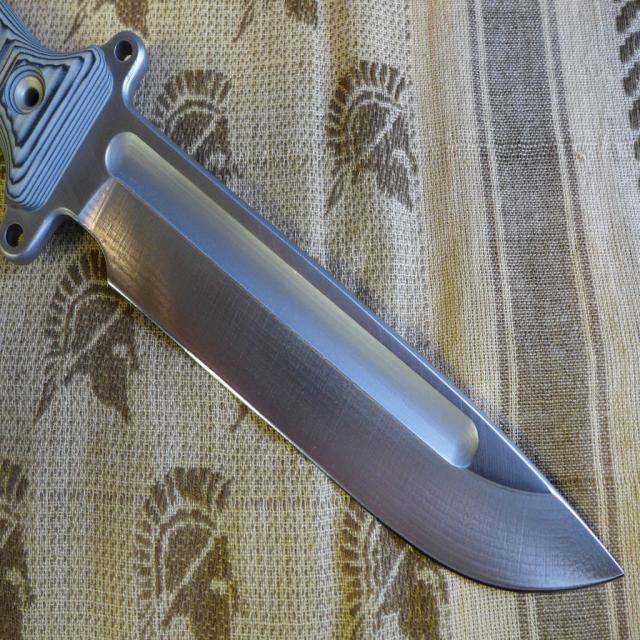Knife: (0, 0, 622, 591)
